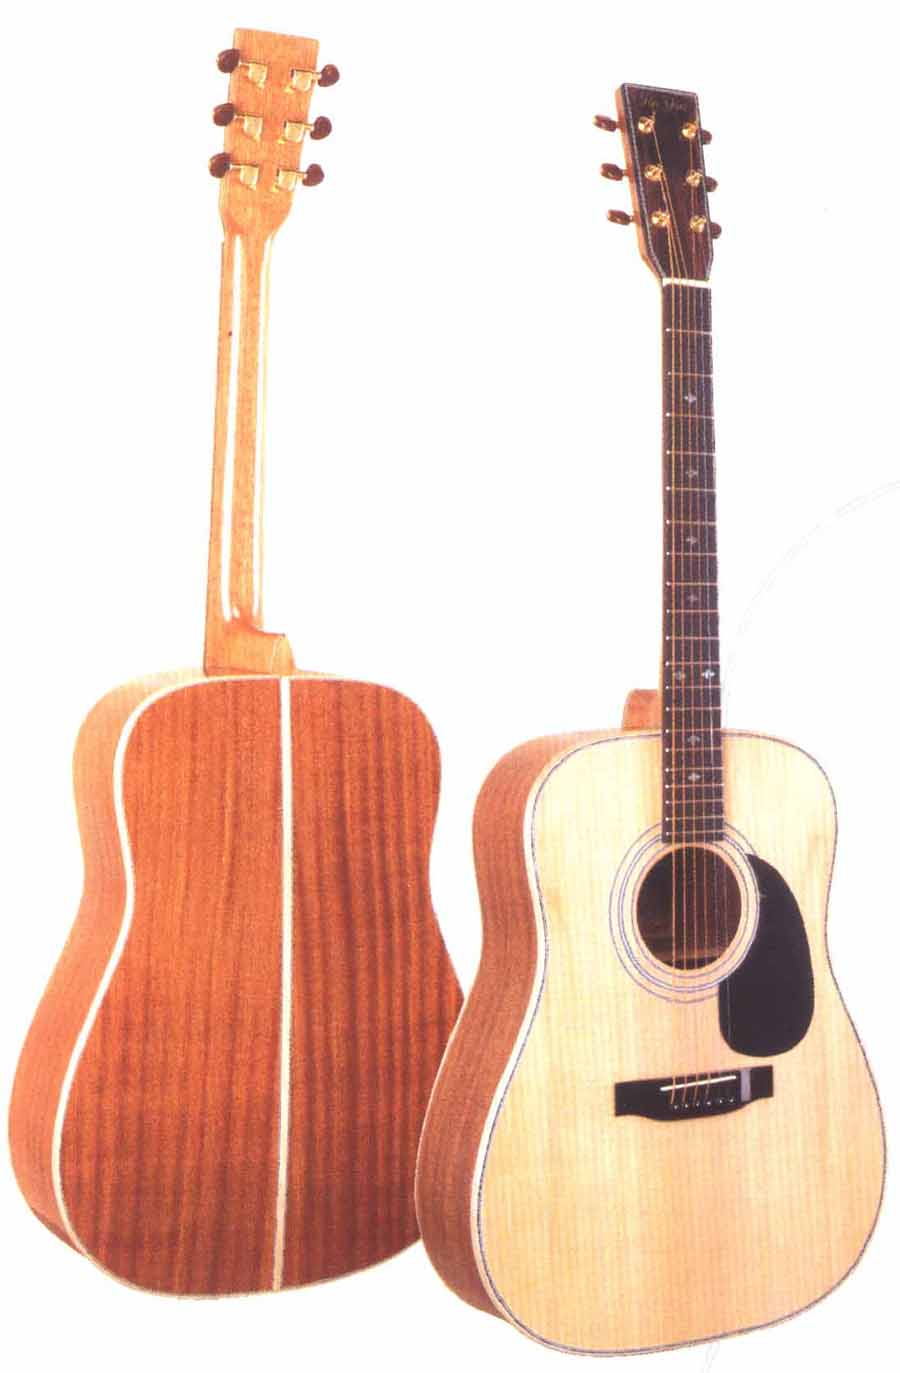guitar: (3, 20, 475, 1307), (418, 80, 888, 1353)
